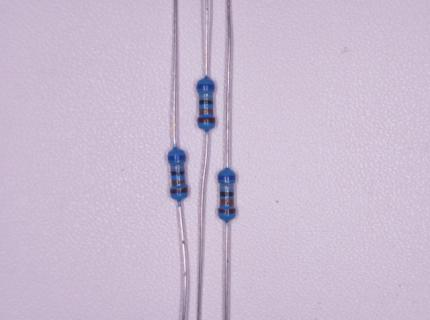Black band: (220, 192, 234, 197), (199, 100, 213, 105), (171, 171, 184, 176)
Blue band: (168, 155, 186, 160), (197, 84, 215, 89), (218, 175, 235, 180)
Brown band: (198, 117, 215, 124), (219, 208, 235, 214), (170, 188, 188, 193)
Grey band: (170, 165, 184, 169), (220, 186, 234, 190), (199, 94, 213, 98)
Orange band: (220, 199, 234, 206), (199, 109, 213, 115), (172, 180, 185, 185)
